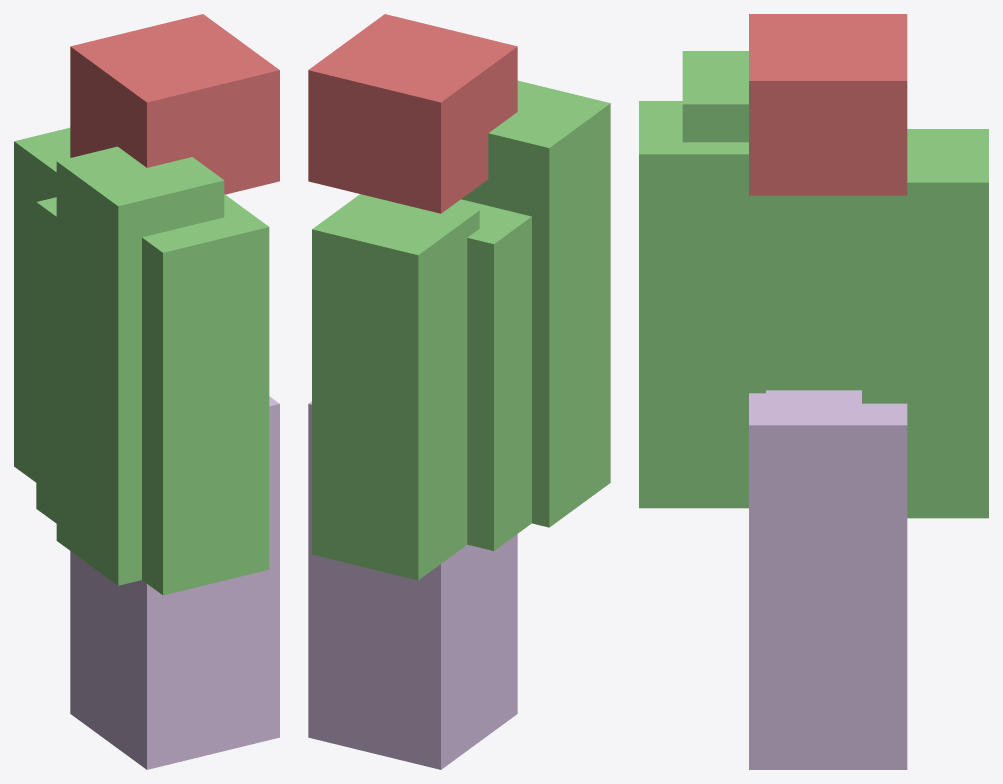
The model's file is Item_Herb_AMF_Barkbalm_Bundle3.glb.
3 views of the same model, side by side, from view 1: azimuth 30°, elevation 25°; view 2: azimuth 150°, elevation 25°; view 3: azimuth 270°, elevation 25° (orthographic). The views are drawn at different scales.
Visible parts, largest first — view 1: Item_Herb_AMF_Barkbalm_Bundle3; view 2: Item_Herb_AMF_Barkbalm_Bundle3; view 3: Item_Herb_AMF_Barkbalm_Bundle3.
Boxes of the visible parts, x1=… form: Item_Herb_AMF_Barkbalm_Bundle3: x1=14, y1=14, x2=279, y2=769; Item_Herb_AMF_Barkbalm_Bundle3: x1=308, y1=14, x2=610, y2=769; Item_Herb_AMF_Barkbalm_Bundle3: x1=639, y1=14, x2=988, y2=769.
Size of the model in its own units: 0.0729 by 0.24 by 0.1104.
